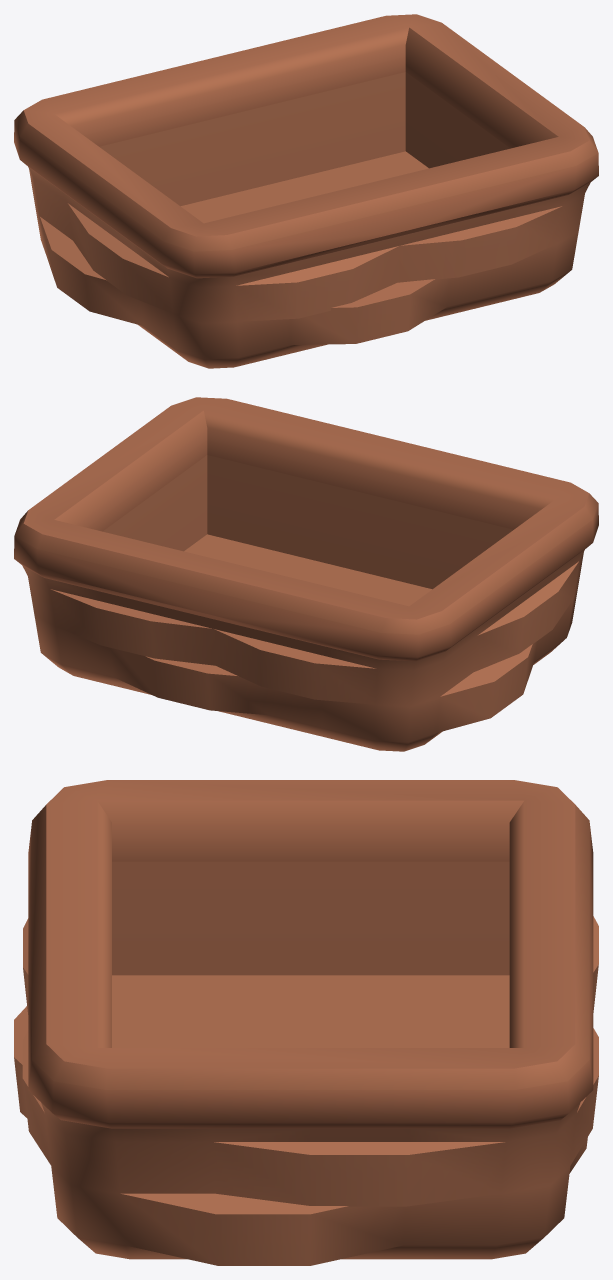
Rendered from basket-a.glb.
3 renders of one model, top to bottom at view 1: azimuth 30°, elevation 25°; view 2: azimuth 150°, elevation 25°; view 3: azimuth 270°, elevation 25°, orthographic. The views are drawn at different scales.
Visible parts, largest first — view 1: basket_A; view 2: basket_A; view 3: basket_A.
Boxes of the visible parts, <box> form: basket_A: <box>14,14,598,368</box>; basket_A: <box>14,397,598,751</box>; basket_A: <box>14,780,598,1265</box>.
Bounding box in the file's own units: 1 × 0.315 × 0.8.
Materials: 1 (1 with a texture image).
